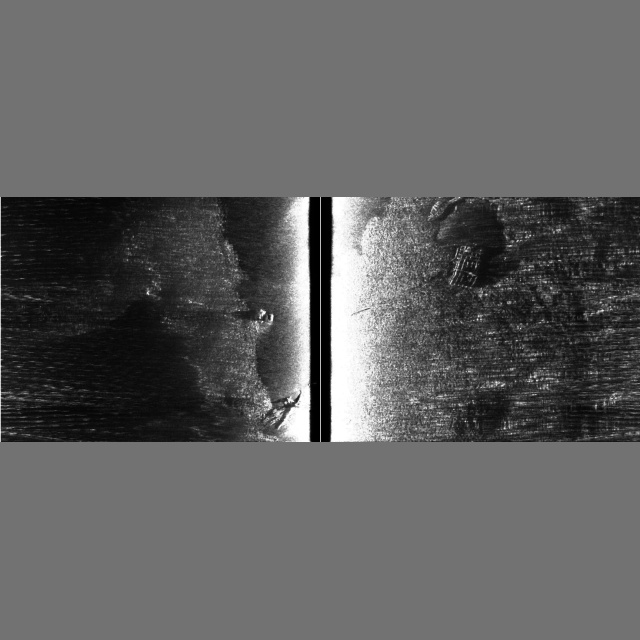Shipwreck: (259, 197, 484, 430)
